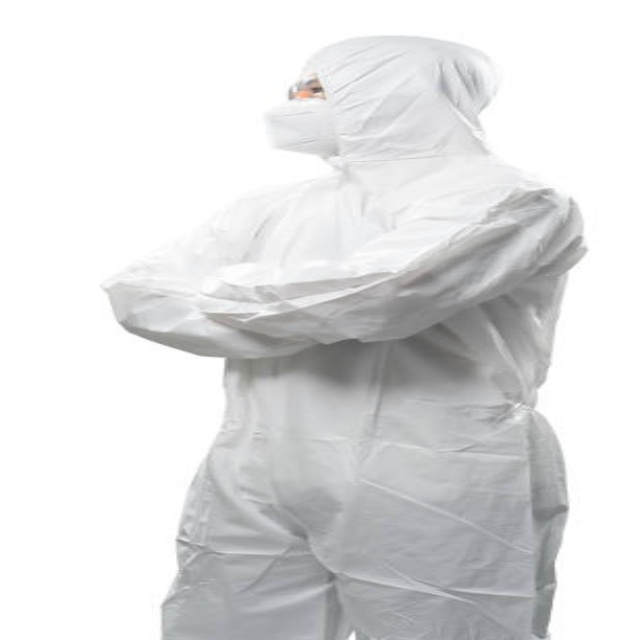Gafas: (288, 75, 324, 100)
Mascara: (264, 101, 345, 156)
